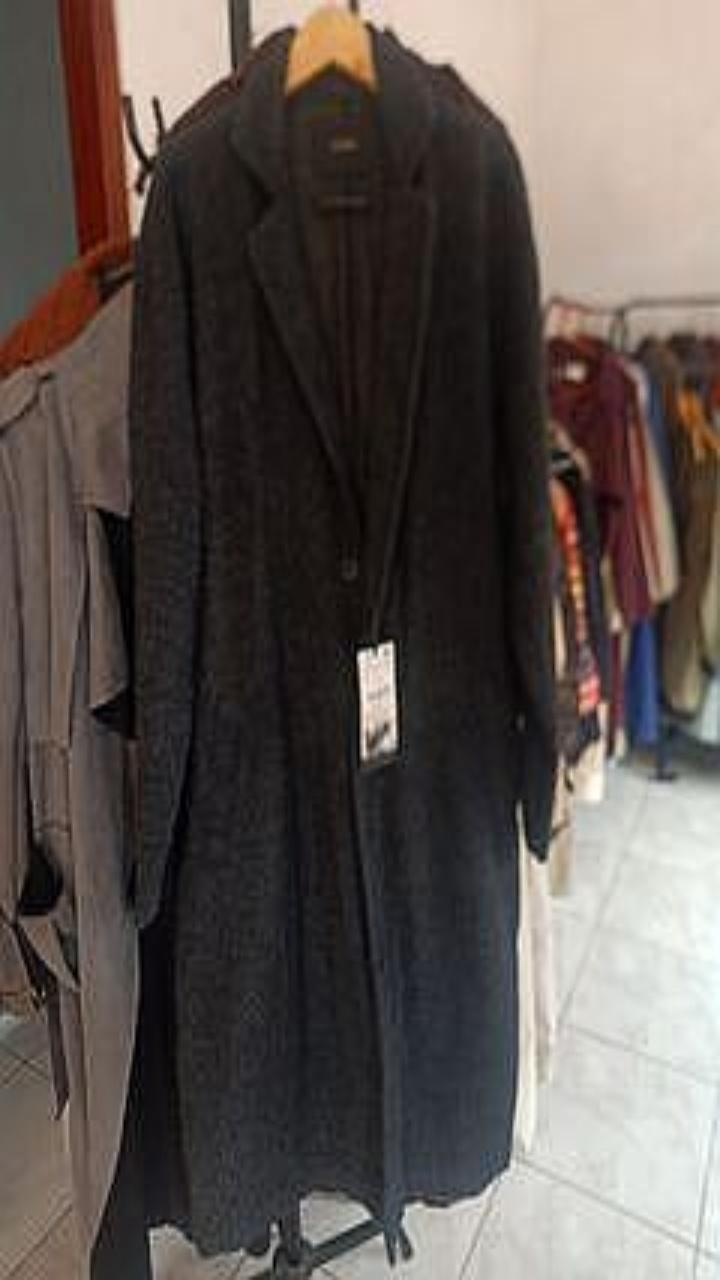Coat: (131, 34, 554, 1251), (0, 291, 137, 1267)
